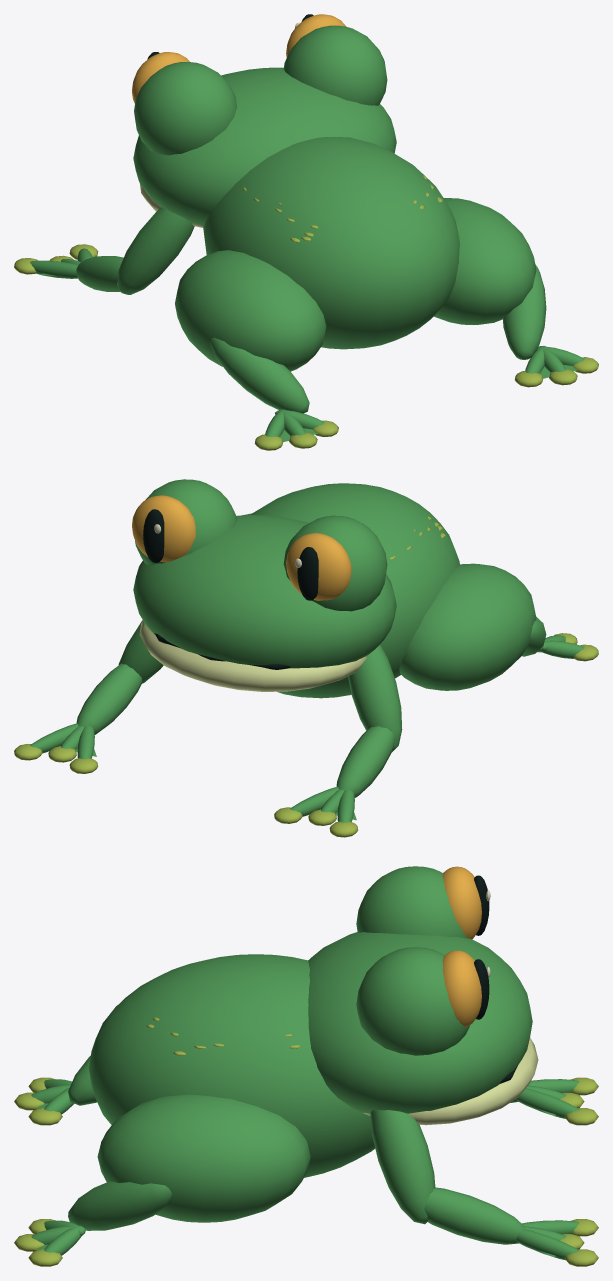
The model's file is frog-high.glb.
The picture shows the model from 3 angles, top to bottom: view 1: azimuth 30°, elevation 25°; view 2: azimuth 150°, elevation 25°; view 3: azimuth 270°, elevation 25°; orthographic projection. The views are drawn at different scales.
Parts seen in each view (by area): view 1: FROG; view 2: FROG; view 3: FROG.
Part boxes in pixels (x1,y1,x2,y2): FROG: [14, 14, 598, 450]; FROG: [14, 479, 598, 837]; FROG: [14, 866, 598, 1266].
Bounding box in the file's own units: 0.7573 × 0.51 × 1.01.
